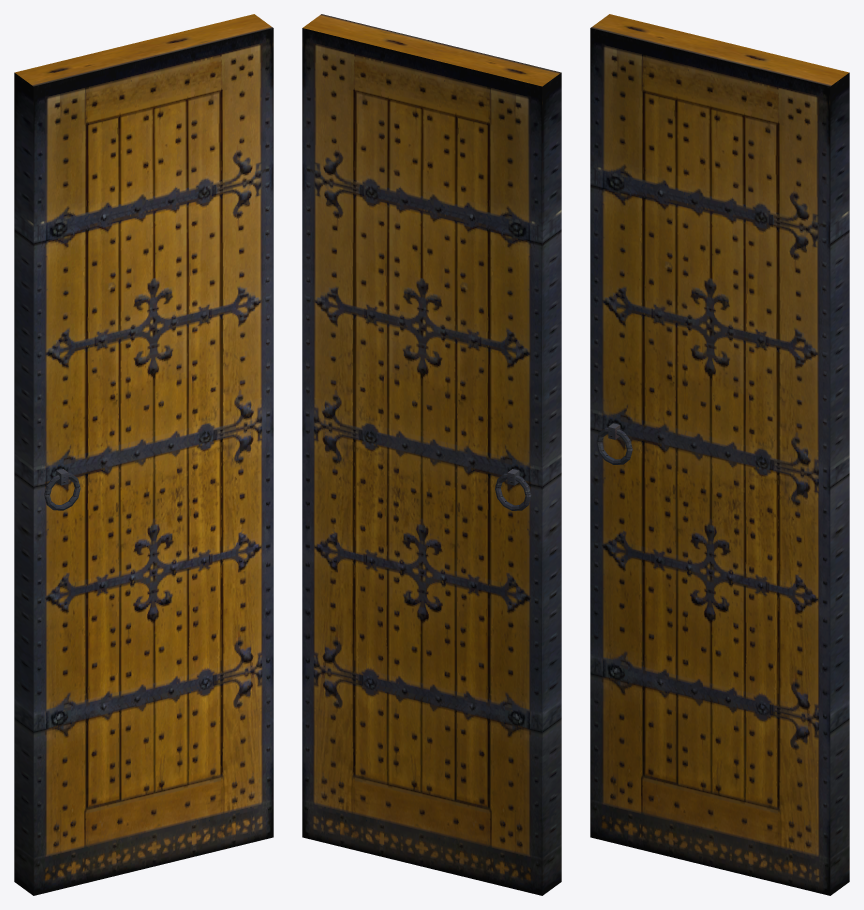
Rendered from svspartadoor4.dae.
3 views of the same model, side by side, from view 1: azimuth 30°, elevation 25°; view 2: azimuth 150°, elevation 25°; view 3: azimuth 330°, elevation 25° (orthographic).
Visible parts, largest first — view 1: unnamed_object34_sep61-0, unnamed_object34_sep58-0; view 2: unnamed_object34_sep61-0, unnamed_object34_sep58-0; view 3: unnamed_object34_sep61-0, unnamed_object34_sep58-0.
Boxes of the visible parts, x1,y1,x2,y2 form: unnamed_object34_sep61-0: [14, 14, 273, 895]; unnamed_object34_sep58-0: [44, 469, 80, 510]; unnamed_object34_sep61-0: [302, 14, 561, 895]; unnamed_object34_sep58-0: [495, 469, 531, 510]; unnamed_object34_sep61-0: [590, 14, 849, 895]; unnamed_object34_sep58-0: [596, 423, 632, 464].
Bounding box in the file's own units: 160 × 515 × 33.6.
